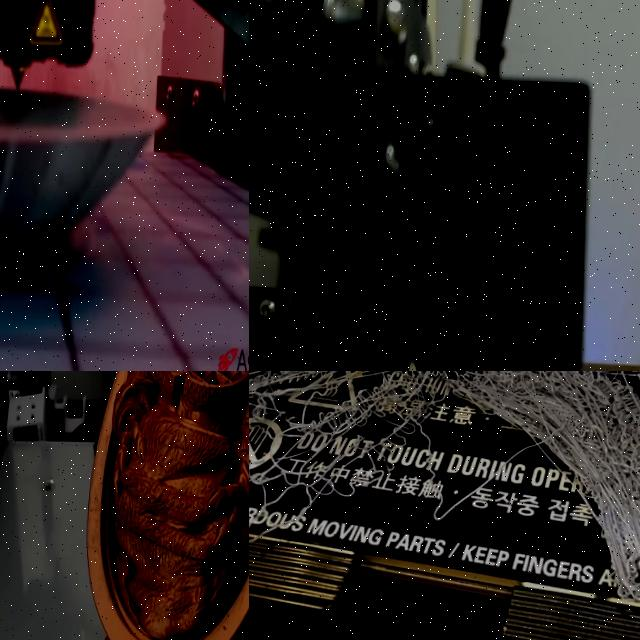spaghetti: (249, 371, 640, 624)
